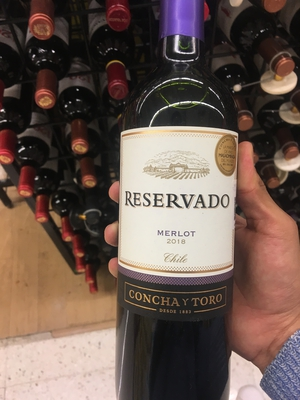reservado merlot: (116, 2, 259, 388)
